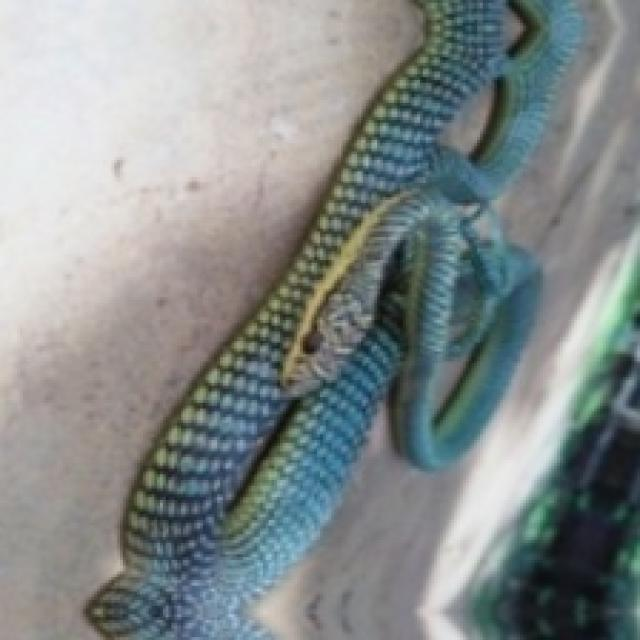paradise tree snake: (89, 0, 580, 637), (417, 0, 637, 637)
